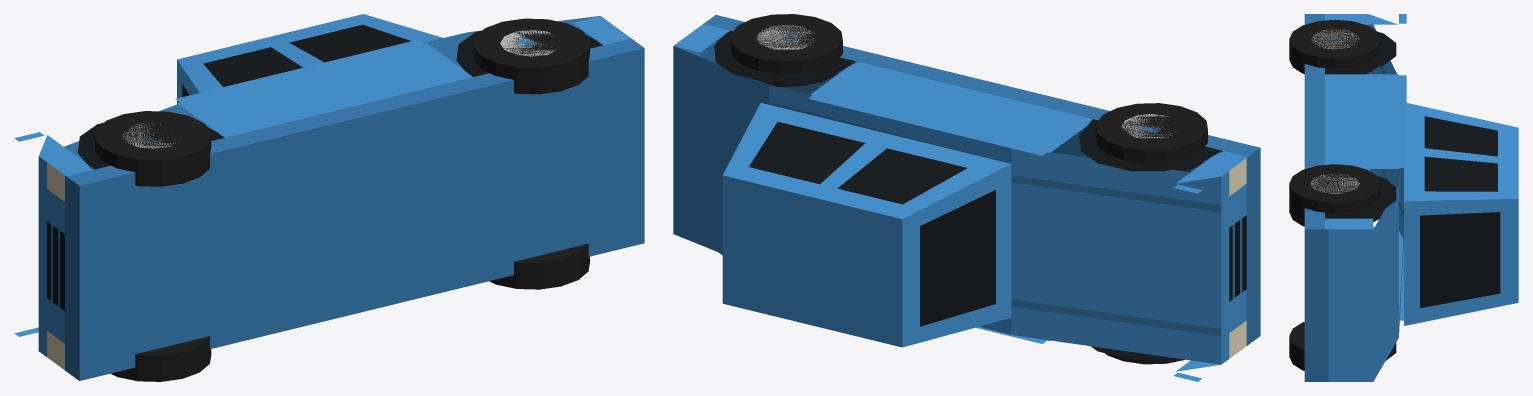
Rendered from small_car.glb.
The picture shows the model from 3 angles, left to right: view 1: azimuth 30°, elevation 25°; view 2: azimuth 150°, elevation 25°; view 3: azimuth 270°, elevation 25°; orthographic projection. The views are drawn at different scales.
Visible parts, largest first — view 1: small_car_d3_body_clean_integrated, small_car_d3_cabin_clean_integrated, small_car_d3_tire_-1.34_1, small_car_d3_tire_1.34_1, small_car_d3_tire_1.34_-1, small_car_d3_tire_-1.34_-1, small_car_d3_rim_1.34_1; view 2: small_car_d3_body_clean_integrated, small_car_d3_cabin_clean_integrated, small_car_d3_tire_1.34_1, small_car_d3_tire_-1.34_1, small_car_d3_rim_1.34_1, small_car_d3_rim_-1.34_1; view 3: small_car_d3_body_clean_integrated, small_car_d3_cabin_clean_integrated, small_car_d3_tire_-1.34_1, small_car_d3_tire_1.34_1, small_car_d3_tire_1.34_-1, small_car_d3_rim_-1.34_1, small_car_d3_rim_1.34_1.
Part boxes in pixels (box(x1,y1,x2,y2)): small_car_d3_body_clean_integrated: box(14, 16, 644, 380); small_car_d3_cabin_clean_integrated: box(177, 14, 464, 130); small_car_d3_tire_-1.34_1: box(95, 111, 211, 186); small_car_d3_tire_1.34_1: box(473, 18, 589, 94); small_car_d3_tire_1.34_-1: box(489, 243, 589, 289); small_car_d3_tire_-1.34_-1: box(111, 336, 211, 381); small_car_d3_rim_1.34_1: box(500, 30, 555, 56); small_car_d3_body_clean_integrated: box(673, 15, 1260, 381); small_car_d3_cabin_clean_integrated: box(722, 103, 1011, 347); small_car_d3_tire_1.34_1: box(730, 14, 842, 86); small_car_d3_tire_-1.34_1: box(1095, 103, 1207, 171); small_car_d3_rim_1.34_1: box(756, 25, 814, 49); small_car_d3_rim_-1.34_1: box(1121, 114, 1172, 138); small_car_d3_body_clean_integrated: box(1304, 14, 1406, 381); small_car_d3_cabin_clean_integrated: box(1404, 103, 1518, 325); small_car_d3_tire_-1.34_1: box(1289, 19, 1380, 74); small_car_d3_tire_1.34_1: box(1289, 164, 1380, 218); small_car_d3_tire_1.34_-1: box(1289, 322, 1304, 370); small_car_d3_rim_-1.34_1: box(1311, 29, 1359, 49); small_car_d3_rim_1.34_1: box(1311, 174, 1359, 193).
Bounding box in the file's own units: 4 × 1.5 × 1.8.
